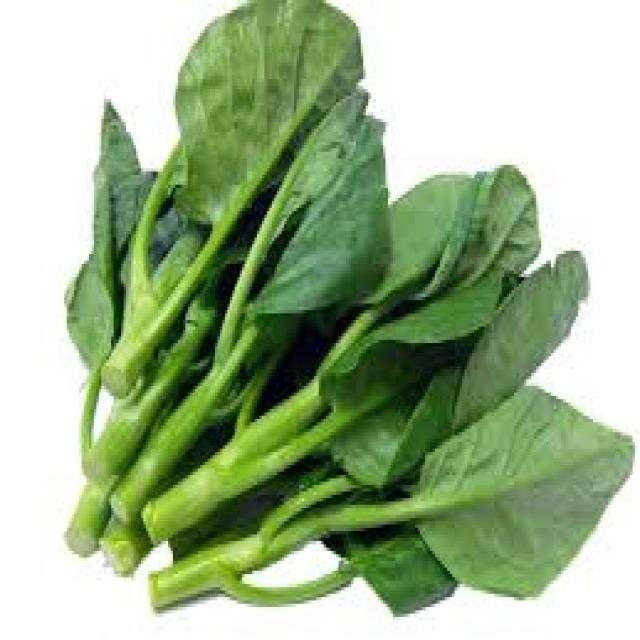collard: (64, 0, 634, 617)
